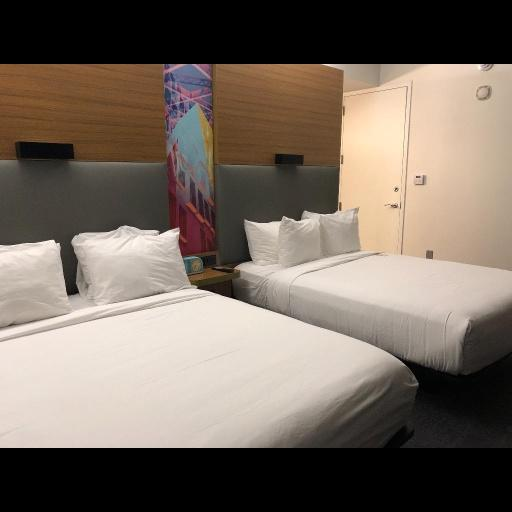clean_bed: (0, 159, 412, 452), (222, 165, 511, 375)
organised_pillow: (5, 225, 191, 326), (242, 209, 365, 269)
